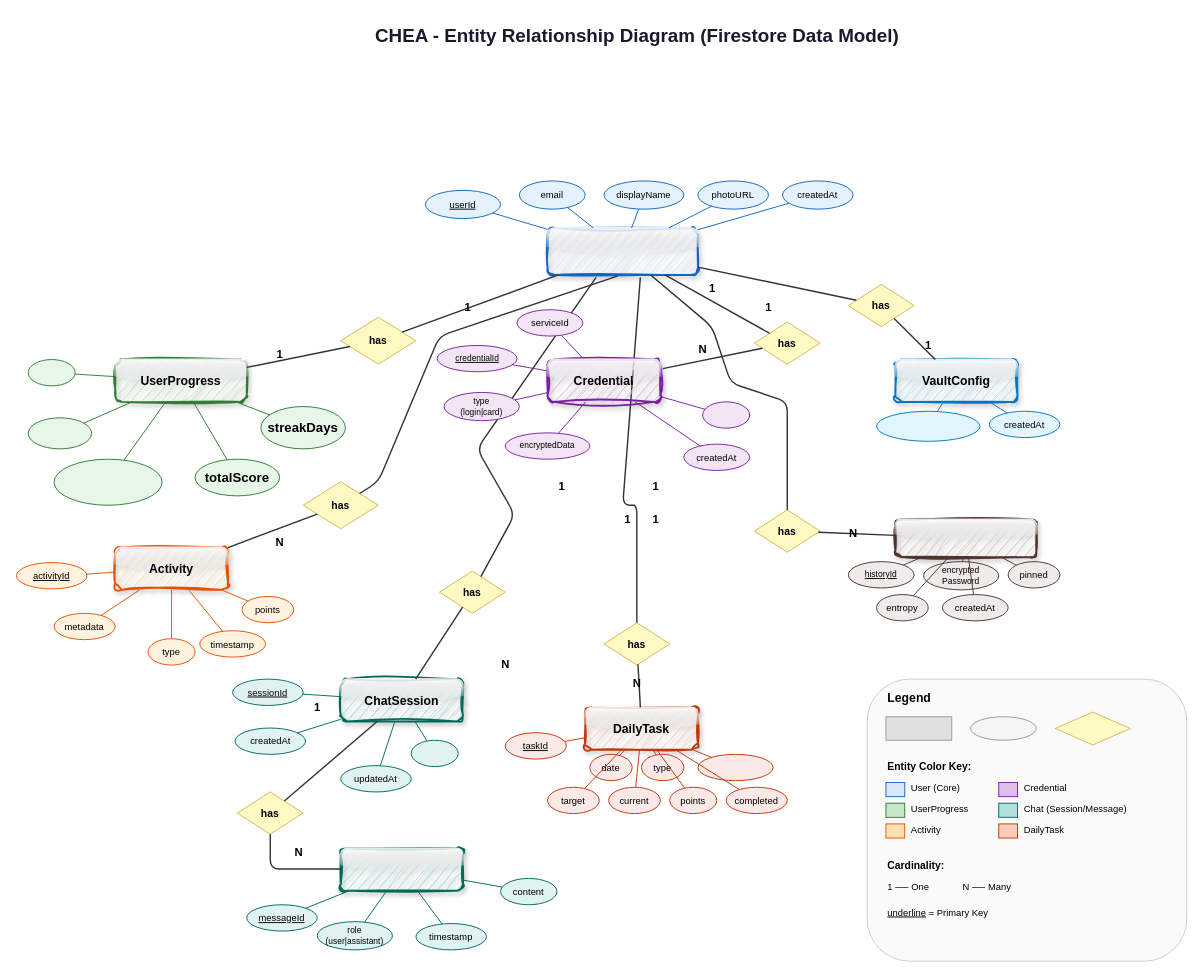
The diagram is 1203 pixels wide and 978 high, and some of its shapes have lost their labels. Here are the shapes that lost their labels. From the top down, the centre of each, then its label:
At pixel 623 252: "User".
At pixel 51 372: "xp".
At pixel 59 433: "level".
At pixel 726 414: "name".
At pixel 928 425: "encryptedVerification Hash".
At pixel 107 481: "lastActiveDate".
At pixel 966 539: "PasswordHistoryItem".
At pixel 918 728: "Entity".
At pixel 1003 728: "Attribute".
At pixel 1092 728: "Relationship".
At pixel 434 753: "title".
At pixel 735 767: "description".
At pixel 402 870: "ChatMessage".
